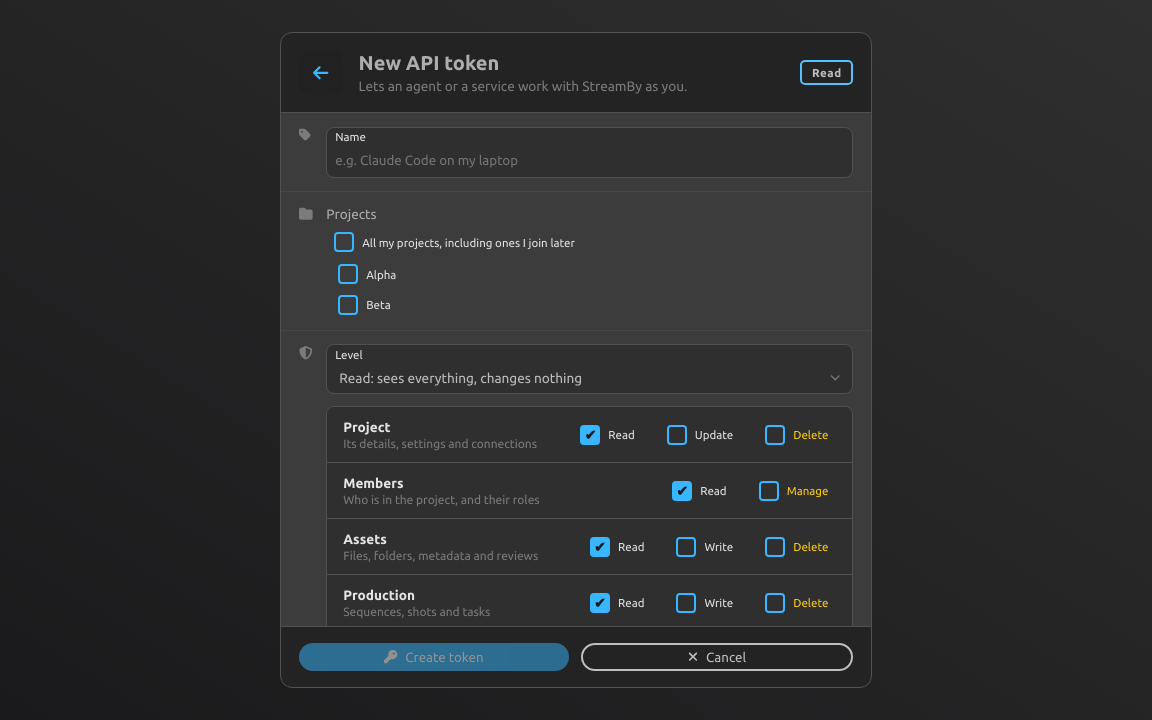
making a user's token › warns about deleting and broad permissions, and about no expiration
This screenshot has width=1152, height=720.
Click the button "Read: sees everything, changes nothing" at (461, 378), box [327, 362, 852, 393]
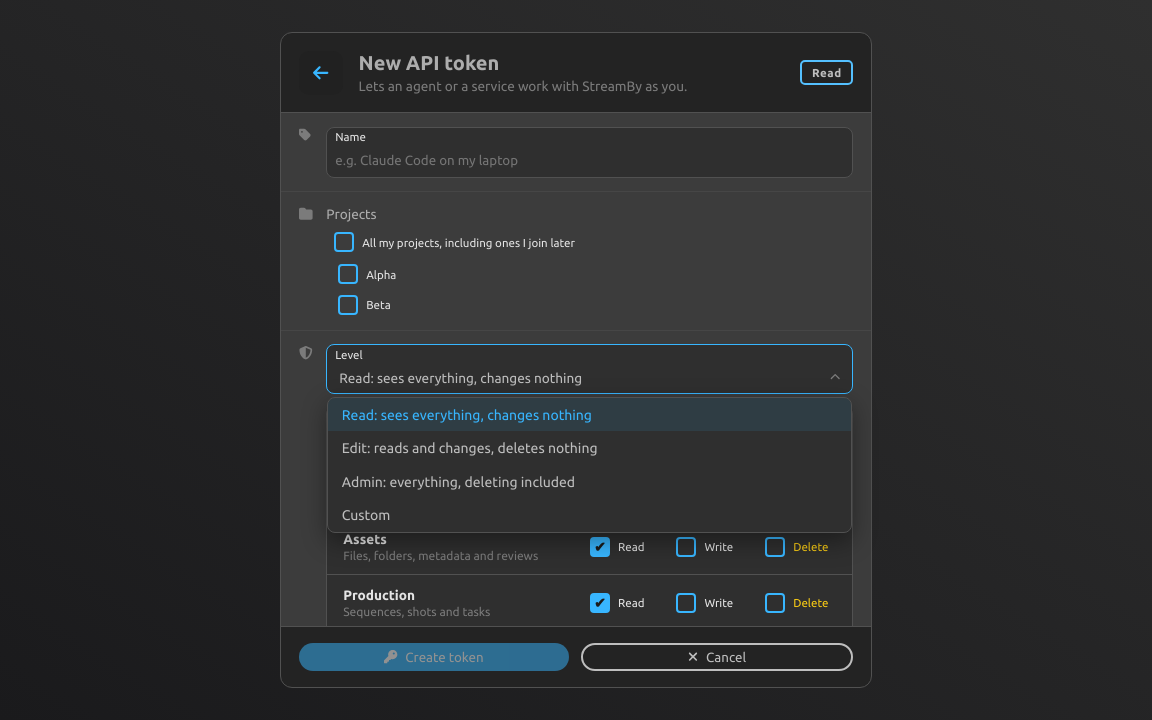
Press the mouse on the list item "Admin: everything, deleting included" at (458, 482), box [342, 474, 575, 490]
(page scrolled)
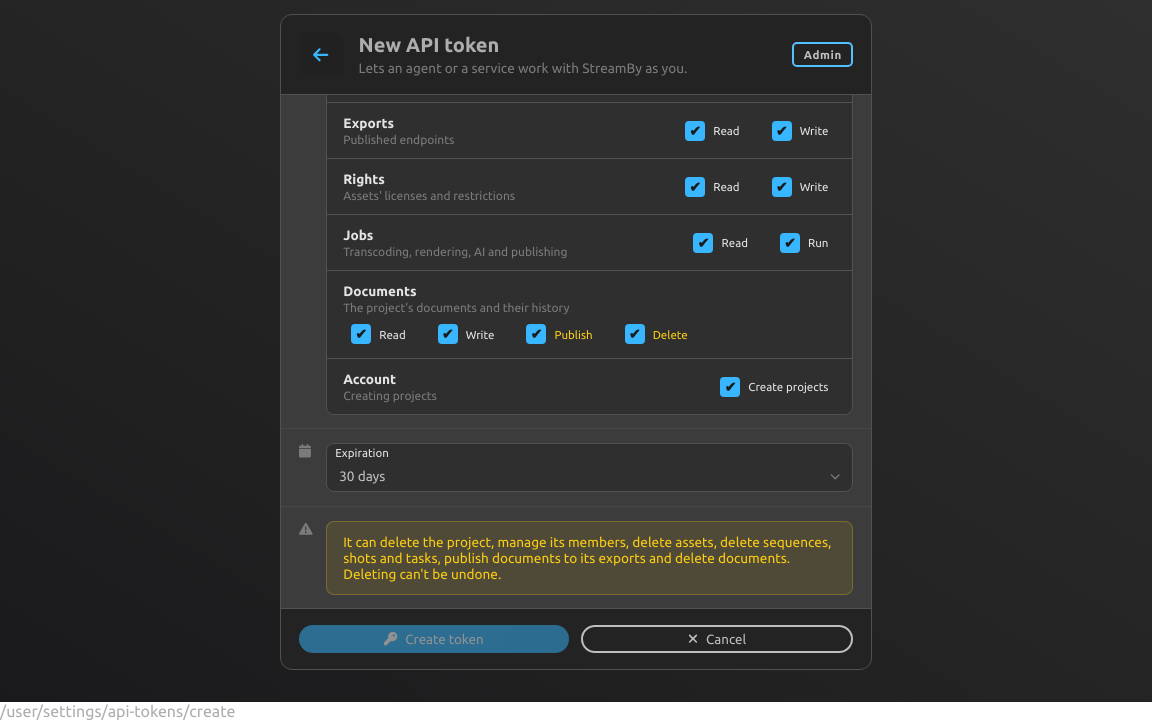
Result: the list with test id "api-token-warnings" shows "It can delete the project, manage its members, delete assets, delete sequences, shots and tasks, publish documents to its exports and delete documents." at [343, 534, 831, 582]
Click the button "30 days" at (362, 476), box [327, 461, 852, 491]
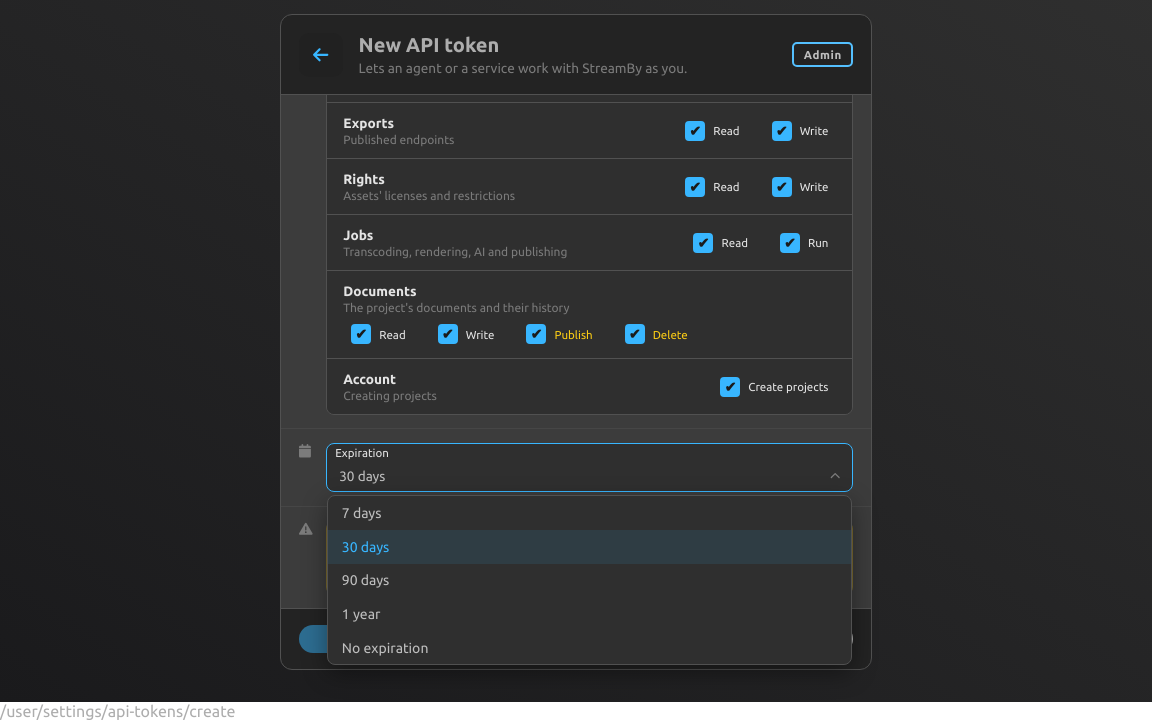
Press the mouse on the list item "No expiration" at (385, 648), box [342, 640, 428, 656]
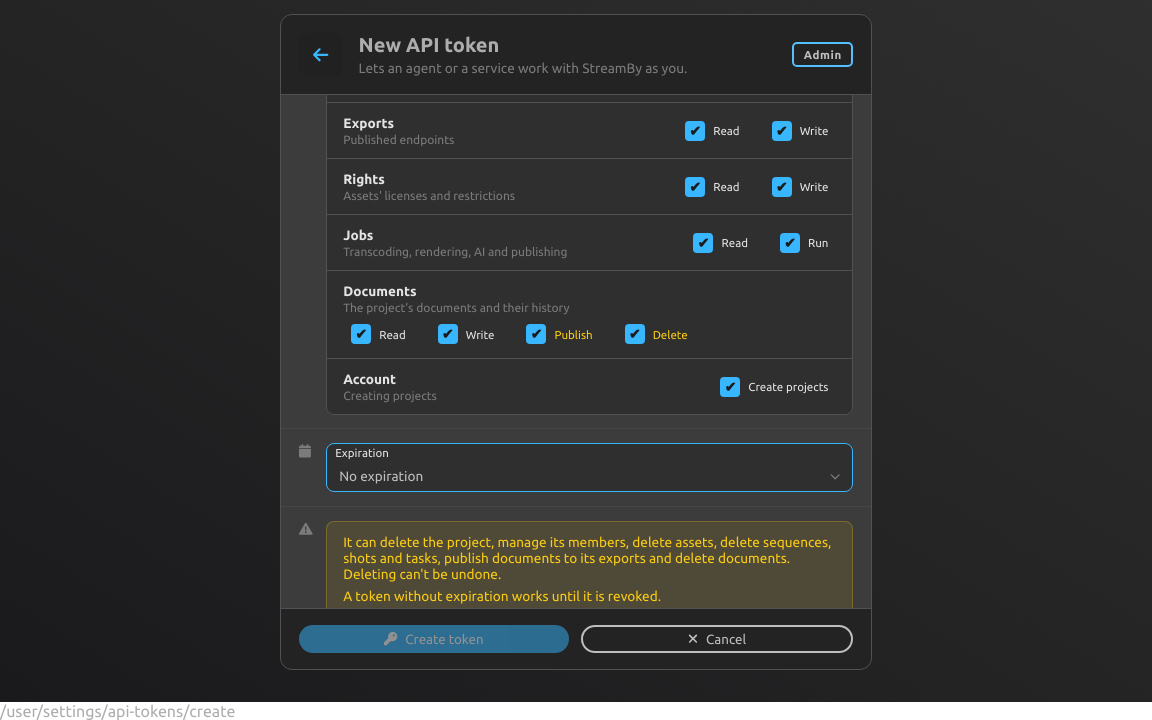
Result: the list with test id "api-token-warnings" shows "without expiration" at [343, 588, 661, 604]
